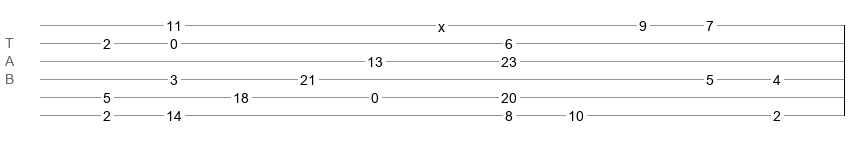0: (170, 36, 178, 46), (371, 90, 379, 100)
10: (568, 108, 584, 118)
11: (166, 18, 182, 28)
13: (367, 54, 383, 64)
14: (166, 108, 182, 118)
18: (233, 90, 249, 100)
2: (103, 108, 111, 118), (103, 36, 111, 46), (773, 108, 781, 118)
20: (501, 90, 517, 100)
21: (300, 72, 316, 82)
23: (501, 54, 517, 64)
3: (170, 72, 178, 82)
4: (773, 72, 781, 82)
5: (103, 90, 111, 100), (706, 72, 714, 82)
6: (505, 36, 513, 46)
7: (706, 18, 714, 28)
8: (505, 108, 513, 118)
9: (639, 18, 647, 28)
x: (438, 19, 445, 27)
